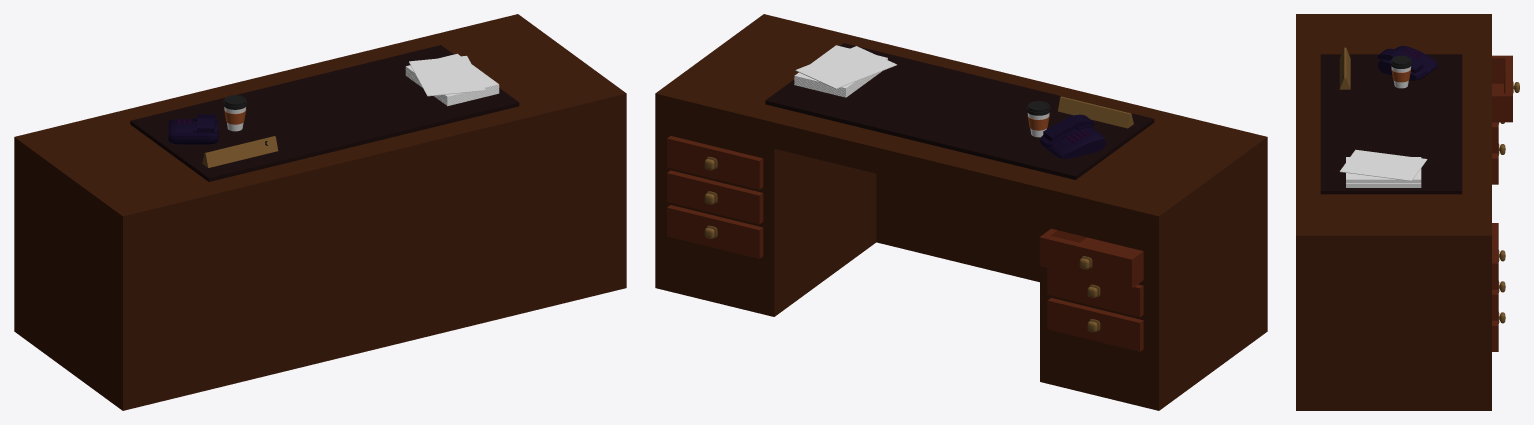
File: mesa_diretor.fbx
3 renders of one model, left to right at view 1: azimuth 30°, elevation 25°; view 2: azimuth 150°, elevation 25°; view 3: azimuth 270°, elevation 25°, orthographic. The views are drawn at different scales.
Visible parts, largest first — view 1: mesa_diretor; view 2: mesa_diretor; view 3: mesa_diretor.
Boxes of the visible parts, x1,y1,x2,y2 form: mesa_diretor: (14,14,626,410); mesa_diretor: (655,14,1267,410); mesa_diretor: (1296,14,1519,410).
Size of the model in its own units: 857 by 369 by 366.
